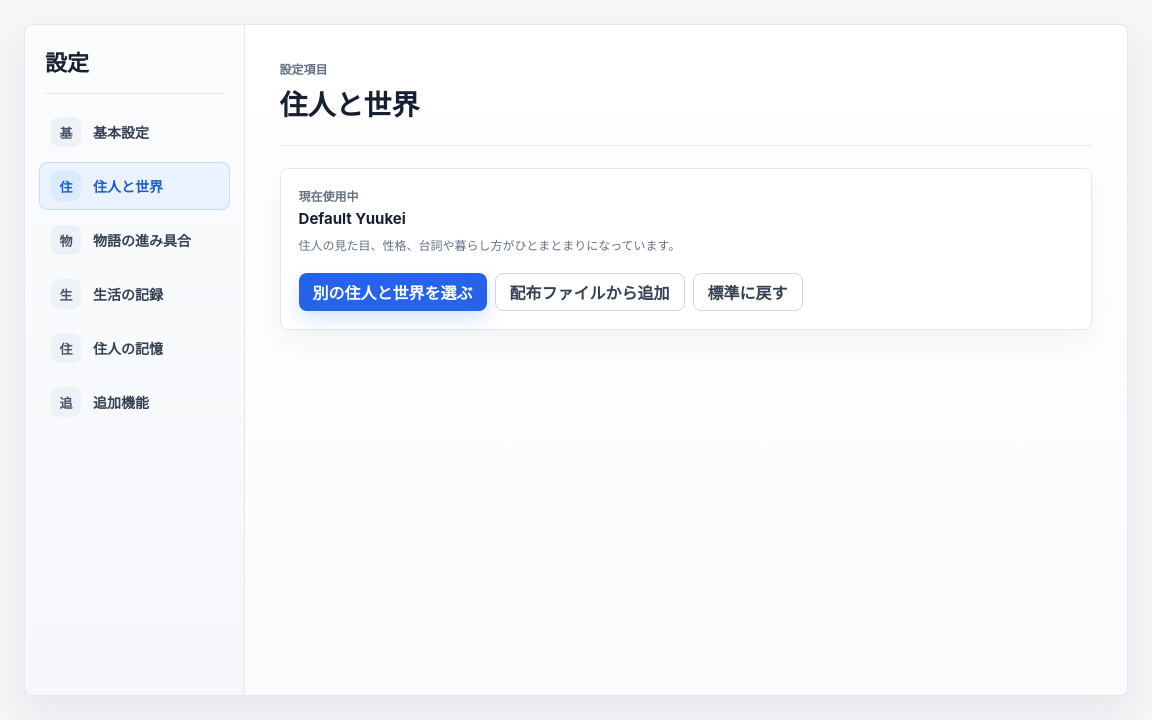
it: App › keeps the event log panel visible when a record has no event type
The width and height of the screenshot is (1152, 720).
Step 1. Click the tab "生 生活の記録" → (134, 294), box [39, 270, 230, 318]
(page scrolled)
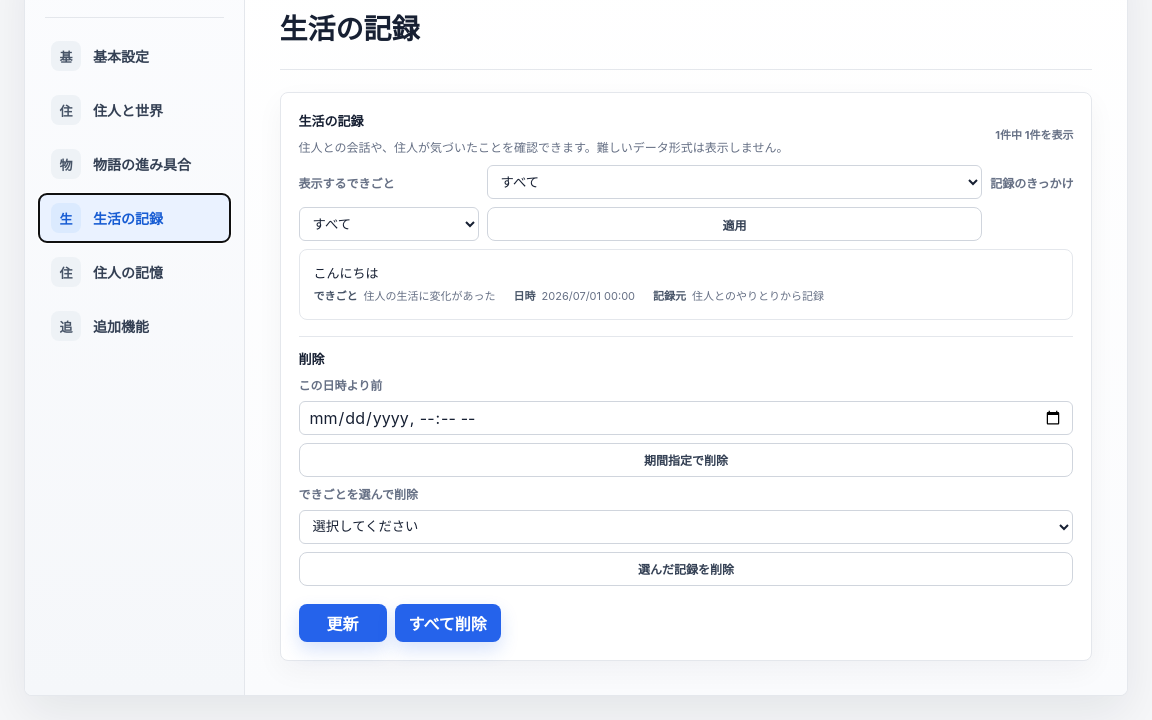
Expected: the text "住人の生活に変化があった" is shown, [364, 289, 496, 304]
Expected: the panel named "生活の記録 settings" is shown, [280, 92, 1092, 660]
